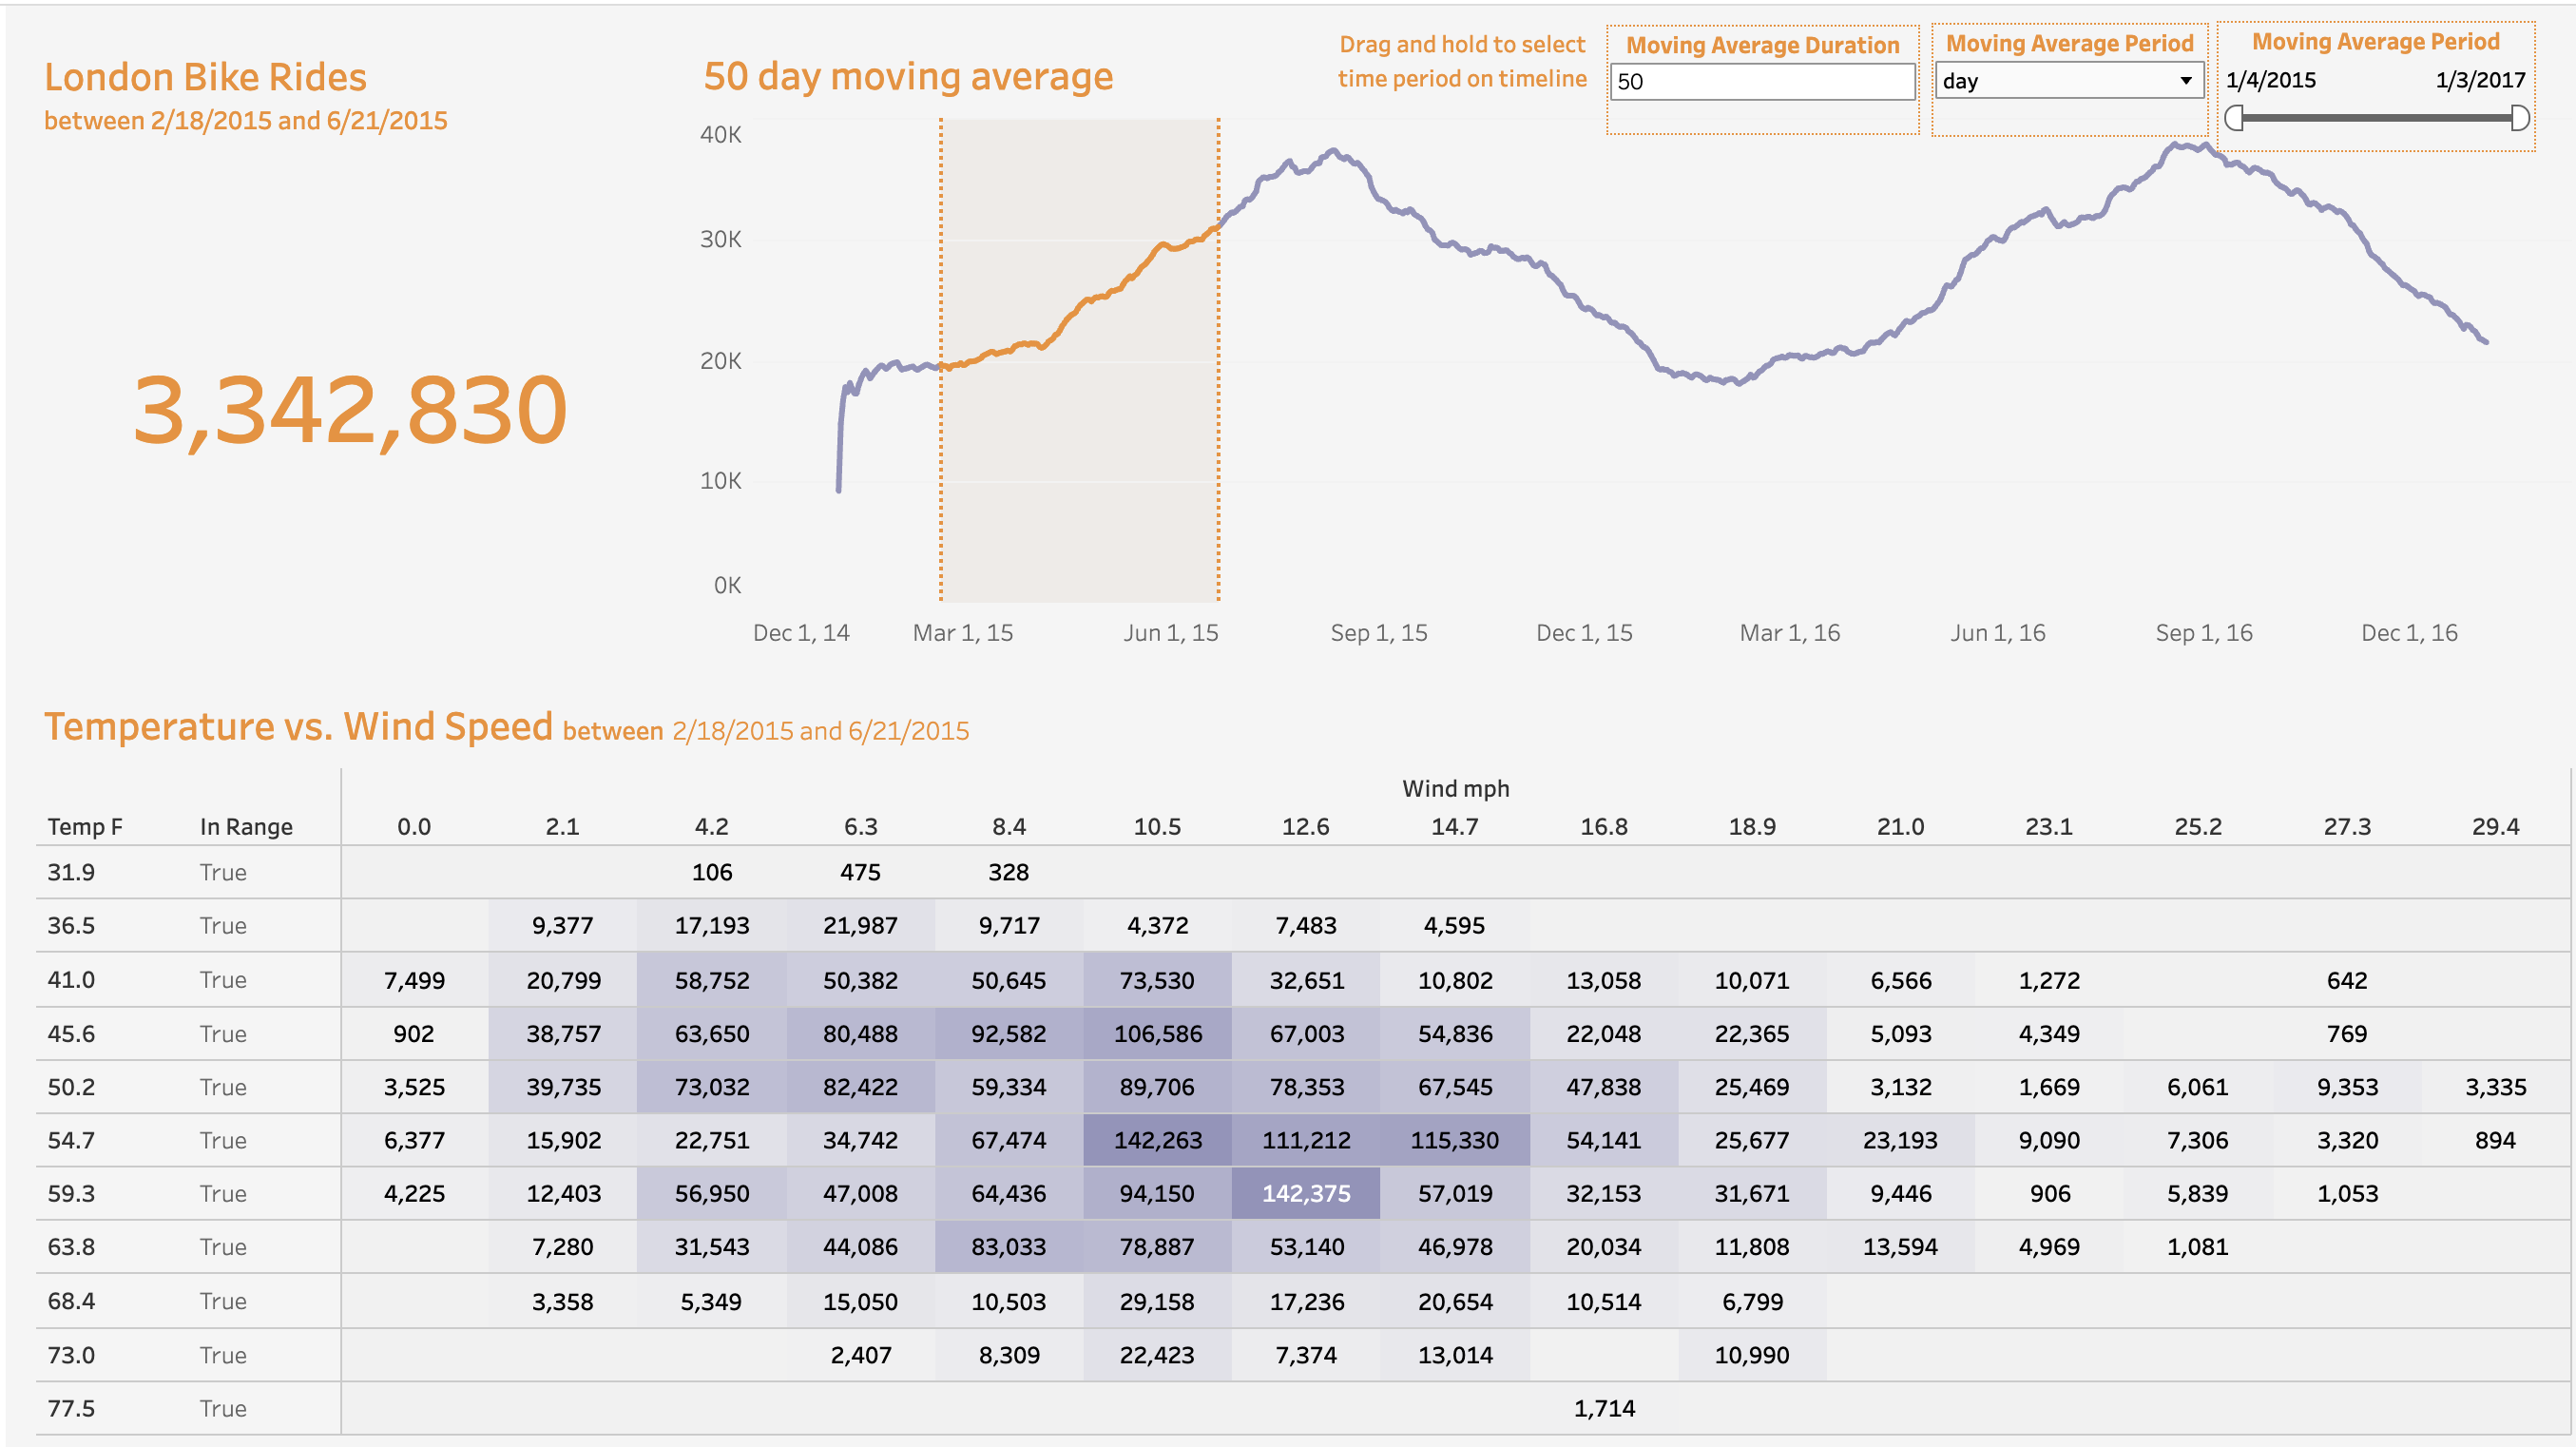

The page's visual inventory and layout, read from the dashboard file:
{"tool":"tableau","page":{"name":"Dashboard 1","canvas":[1366,768],"ordinal":0},"visuals":[{"type":"worksheet","title":"Total Rides","mark":"Automatic","box":[8,8,347,342]},{"type":"worksheet","title":"Moving Average","mark":"Automatic","rows":["Calculation1"],"cols":["Calculation_1978135778309062910"],"box":[355,8,1003,342]},{"type":"filter","title":"Moving Average","param":"[federated.0avsaw60zhjwop0zj335o1ggv863].[none:Calculation_1978135778309062910:q","box":[1163,8,168,69]},{"type":"parameter","param":"[Parameters].[Parameter 1]","box":[1013,9,146,60]},{"type":"parameter","param":"[Parameters].[Parameter 2]","box":[842,10,165,58]},{"type":"text","box":[698,11,137,34]},{"type":"worksheet","title":"Heatmap","mark":"Square","rows":["temp real F (bin)","Calculation_1978135778314551555"],"cols":["Wind Speed Mph (bin)"],"box":[8,350,1350,410]}]}

Visuals, with their boxes in screenshot pixels (x1, y1, x2, y2), scaled from the page's 1366x768 canvas onto the 2576x1447 screenshot:
"Total Rides" worksheet: rect(15, 15, 669, 660)
"Moving Average" worksheet: rect(669, 15, 2561, 660)
"Moving Average" filter: rect(2193, 15, 2510, 145)
parameter: rect(1911, 17, 2185, 130)
parameter: rect(1587, 19, 1899, 128)
text: rect(1317, 21, 1575, 85)
"Heatmap" worksheet (Square marks): rect(15, 660, 2561, 1432)
